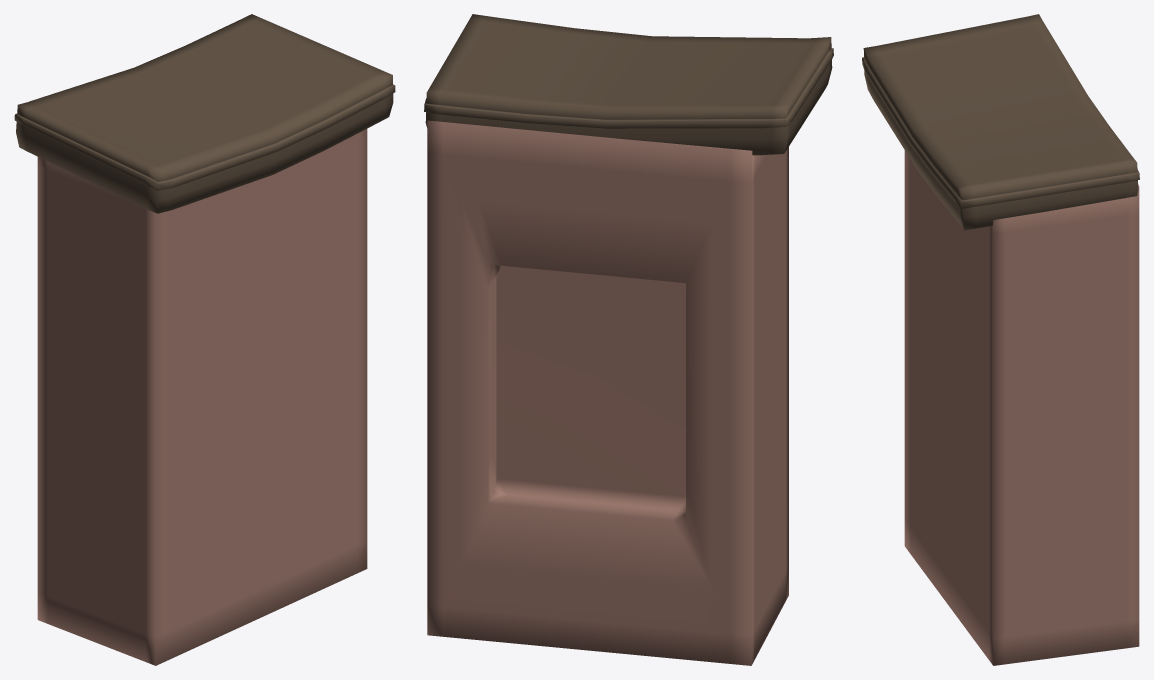
File: Kitchen_set_Kitchen_set_Kitchen_set_Props_grp_Kitchen_set_North_grp_Kitchen_set_NorthWall_grp_Kitchen_set_SpiceBox_2.obj
The picture shows the model from 3 angles, left to right: view 1: azimuth 30°, elevation 25°; view 2: azimuth 150°, elevation 25°; view 3: azimuth 270°, elevation 25°; orthographic projection. The views are drawn at different scales.
Parts seen in each view (by area): view 1: Kitchen_set_pCube641 NCCA_Export, NCCA_Export Kitchen_set_pCube642; view 2: Kitchen_set_pCube641 NCCA_Export, NCCA_Export Kitchen_set_pCube642; view 3: Kitchen_set_pCube641 NCCA_Export, NCCA_Export Kitchen_set_pCube642.
Boxes of the visible parts, bbox=[...] form: Kitchen_set_pCube641 NCCA_Export: bbox=[37, 129, 367, 665]; NCCA_Export Kitchen_set_pCube642: bbox=[14, 14, 395, 213]; Kitchen_set_pCube641 NCCA_Export: bbox=[427, 120, 788, 665]; NCCA_Export Kitchen_set_pCube642: bbox=[424, 14, 833, 155]; Kitchen_set_pCube641 NCCA_Export: bbox=[904, 150, 1139, 665]; NCCA_Export Kitchen_set_pCube642: bbox=[862, 14, 1139, 230].
Size of the model in its own units: 0.6758 by 1 by 0.5029.
